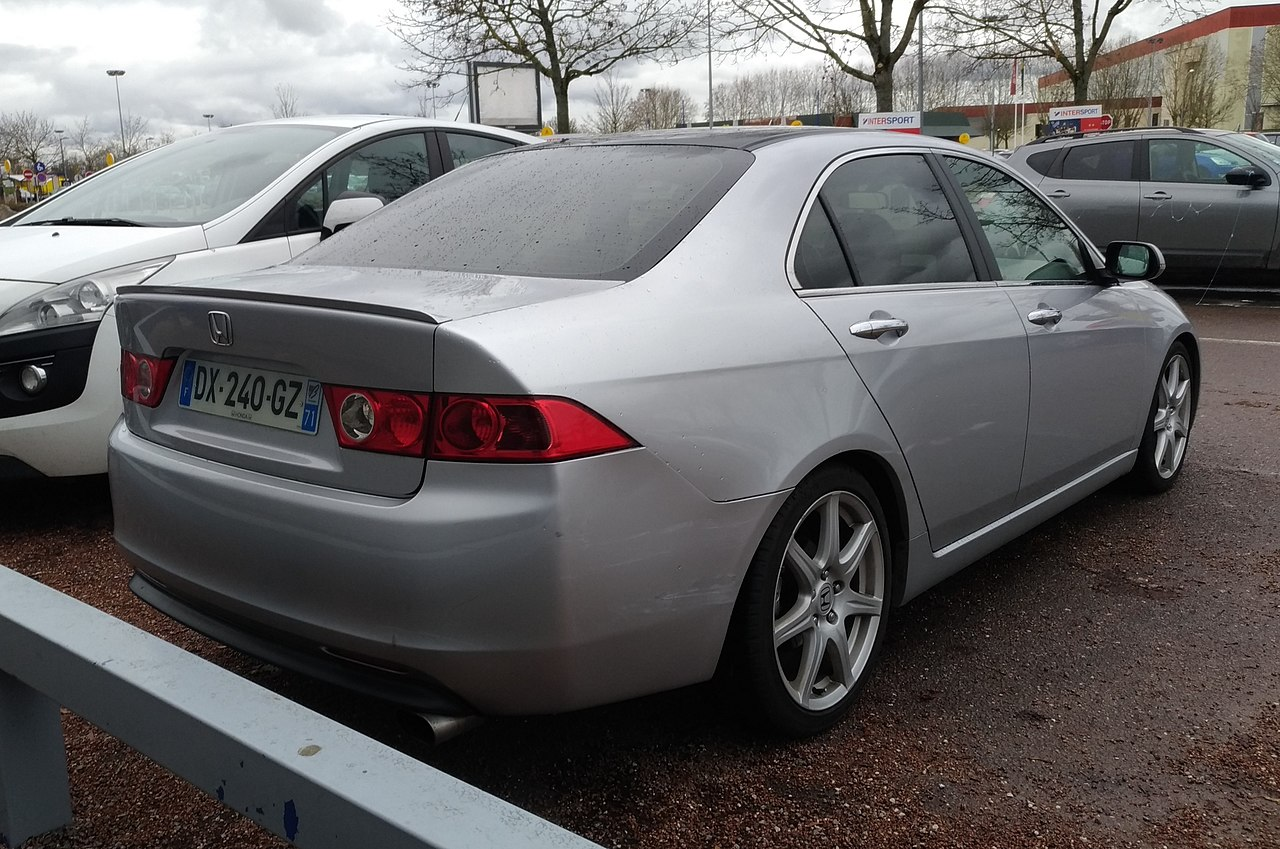plate: (175, 356, 325, 441)
